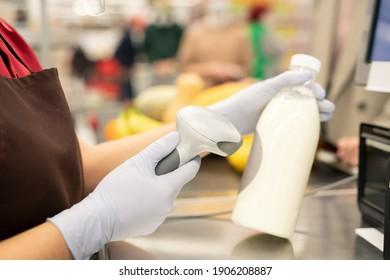gloves: (46, 130, 200, 260), (202, 70, 338, 135)
